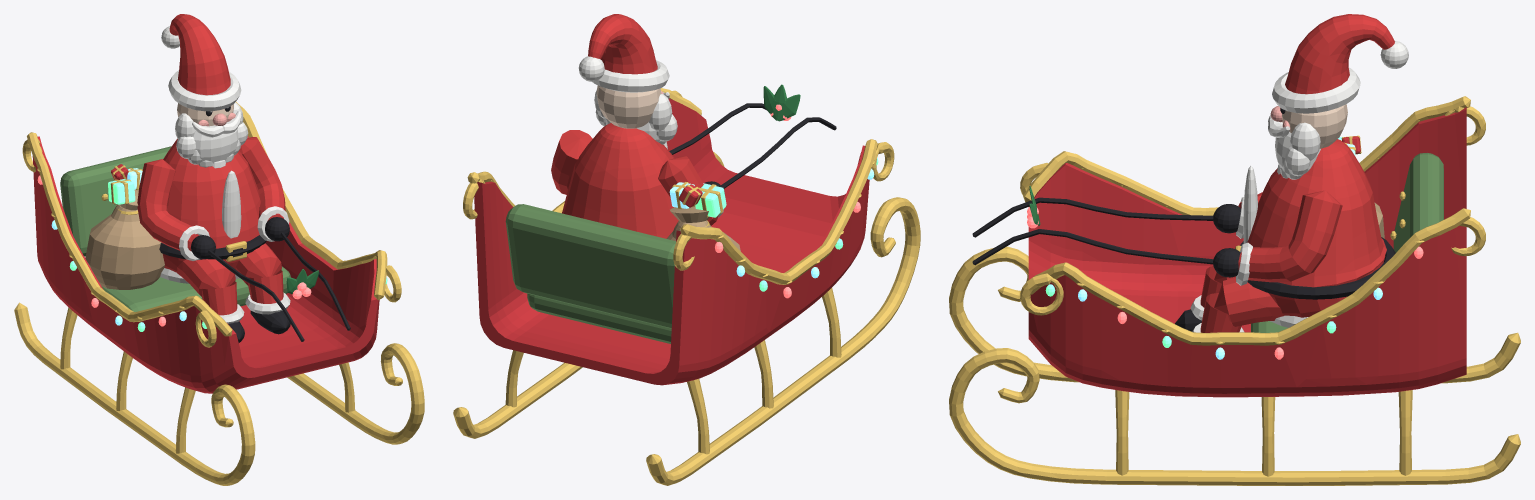
The model's file is TrineoSanta.glb.
The picture shows the model from 3 angles, left to right: view 1: azimuth 30°, elevation 25°; view 2: azimuth 150°, elevation 25°; view 3: azimuth 270°, elevation 25°; orthographic projection. The views are drawn at different scales.
Visible parts, largest first — view 1: TrineoSanta; view 2: TrineoSanta; view 3: TrineoSanta.
Boxes of the visible parts, box(x1,y1,x2,y2) form: TrineoSanta: box(14, 14, 424, 485); TrineoSanta: box(453, 14, 920, 485); TrineoSanta: box(949, 14, 1520, 485).
Bounding box in the file's own units: 1.43 × 2.17 × 2.62.
